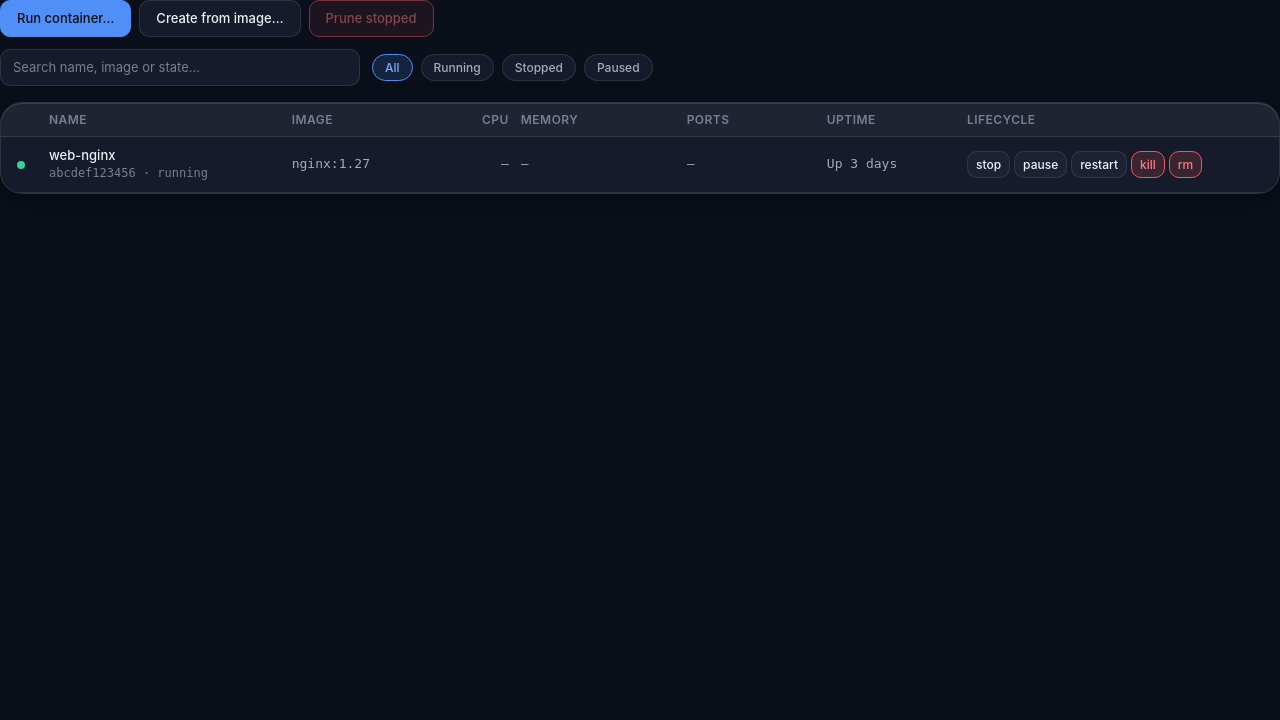
it: ContainersScreen — create/run entry points (plan-docker_management_app/REQ-27) › opens the create form from "Run container…" with "Create and start" as the primary action
The image size is (1280, 720).
Click the button "Run container…" at coordinates (66, 18), box [0,0,131,37]
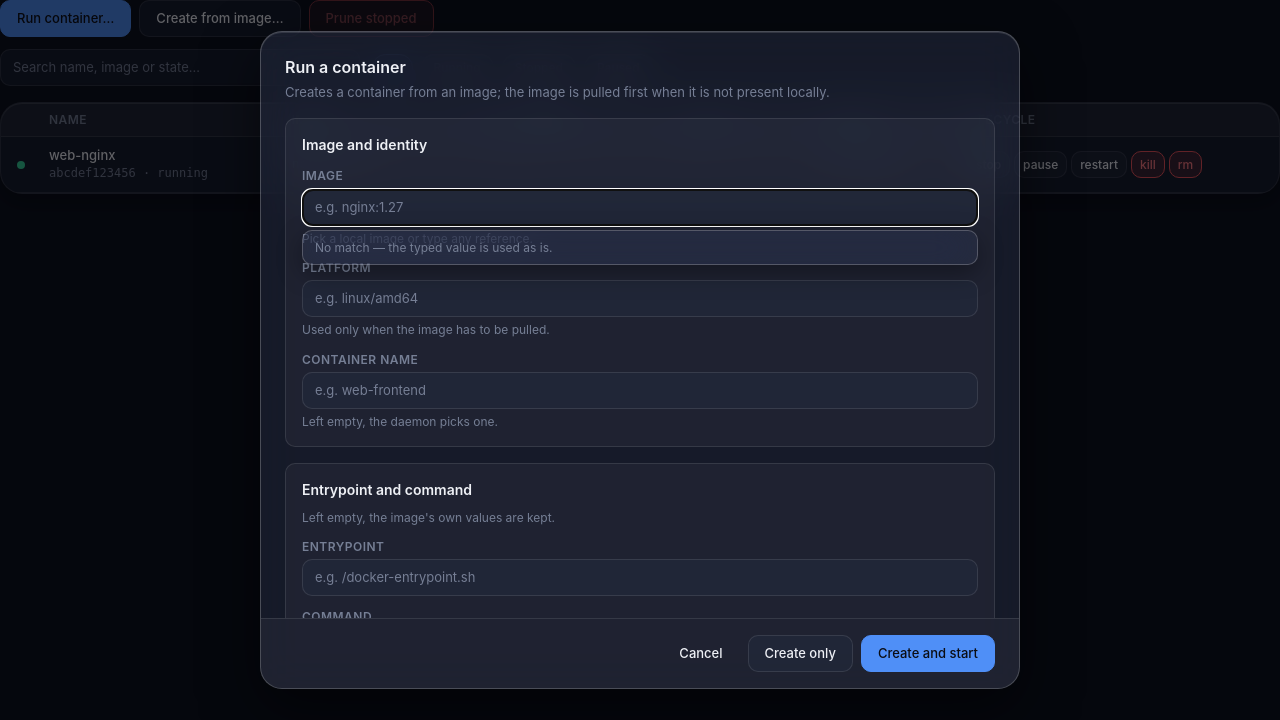
Result: the dropdown named "Image reference" is shown at [302,189,978,226]
